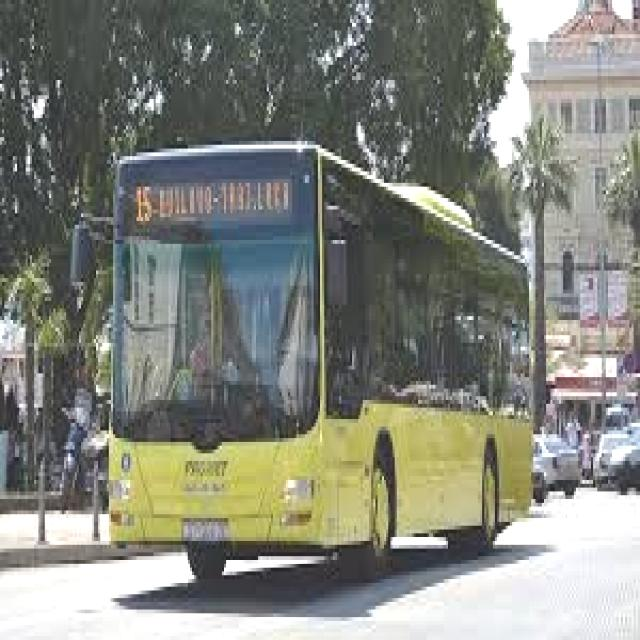bus: (68, 122, 547, 600)
